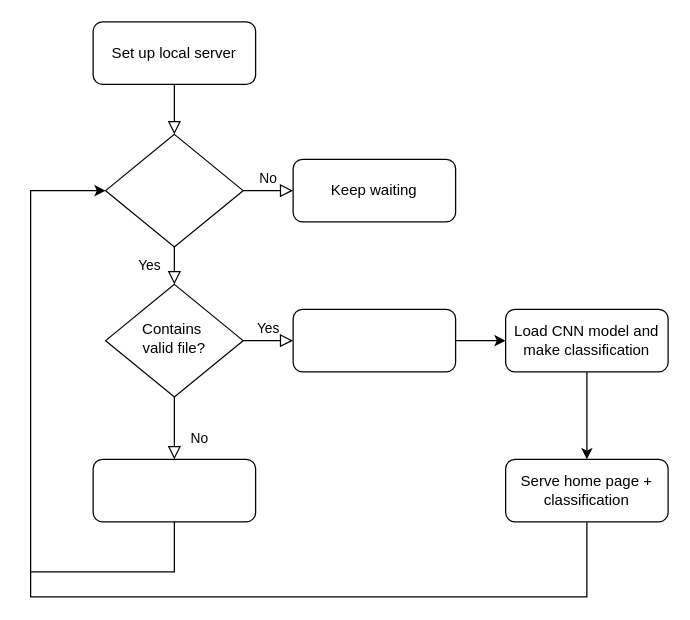
The diagram is 690 pixels wide and 620 high, and some of its shapes have lost their labels. Each missing label, with the centre of its shape:
"New HTTP GET request?" belongs at (173,190).
"Process image (scale, crop, pad, etc)" belongs at (374,340).
"Serve home page" belongs at (174,490).
